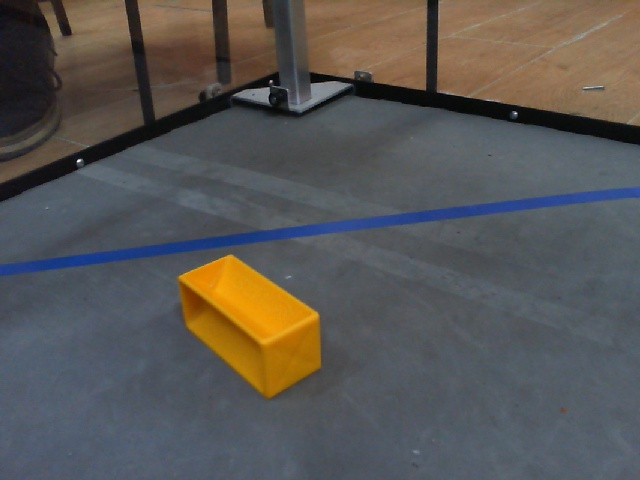YellowSample: (176, 251, 322, 398)
